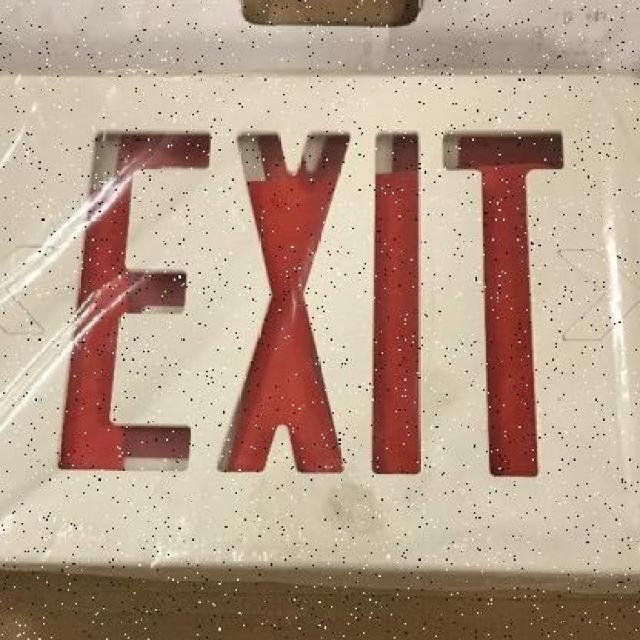emergency_exit: (1, 5, 638, 609), (2, 65, 638, 581), (54, 123, 567, 482)
